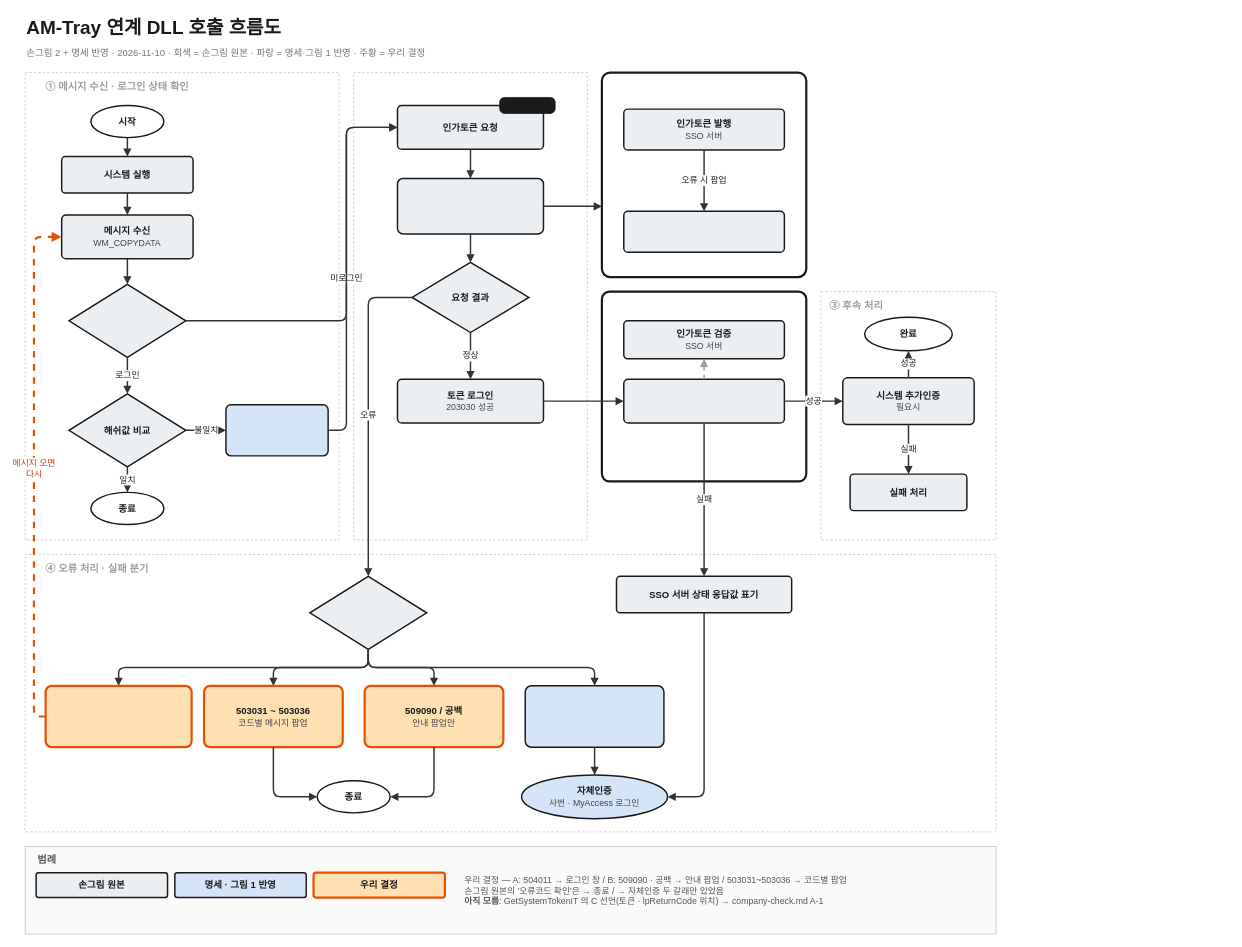
This 1242x947 diagram has some shape labels left out. Here are the shapes that lost their labels. From the top down, the box of each, then its label:
(499, 97, 555, 114): AM DLL
(600, 71, 807, 278): AM Tray (외부)
(396, 177, 544, 234): API 호출 GetSystemTokenIT (ssoKey, sid, systemID)
(623, 210, 785, 253): 로그인 실패 AM-Tray가 직접 팝업
(68, 283, 186, 358): 시스템 로그인 상태
(353, 72, 587, 540): ② 인가토큰 요청 · AM DLL 호출
(600, 290, 807, 482): 시스템서버 → SSO서버
(623, 378, 785, 423): 인가토큰 검증요청 POST /tray/api/ValidateToken
(225, 404, 328, 456): 앱 로그아웃 현재 사용자 ※ 그림 1 기준
(309, 575, 427, 650): 오류코드 확인
(44, 684, 192, 748): 504011 미로그인 AM 로그인 창 (ShowSSOLoginUI) → 로그인 메시지 대기
(524, 685, 664, 748): 500001 / 500003 자체 로그인으로
